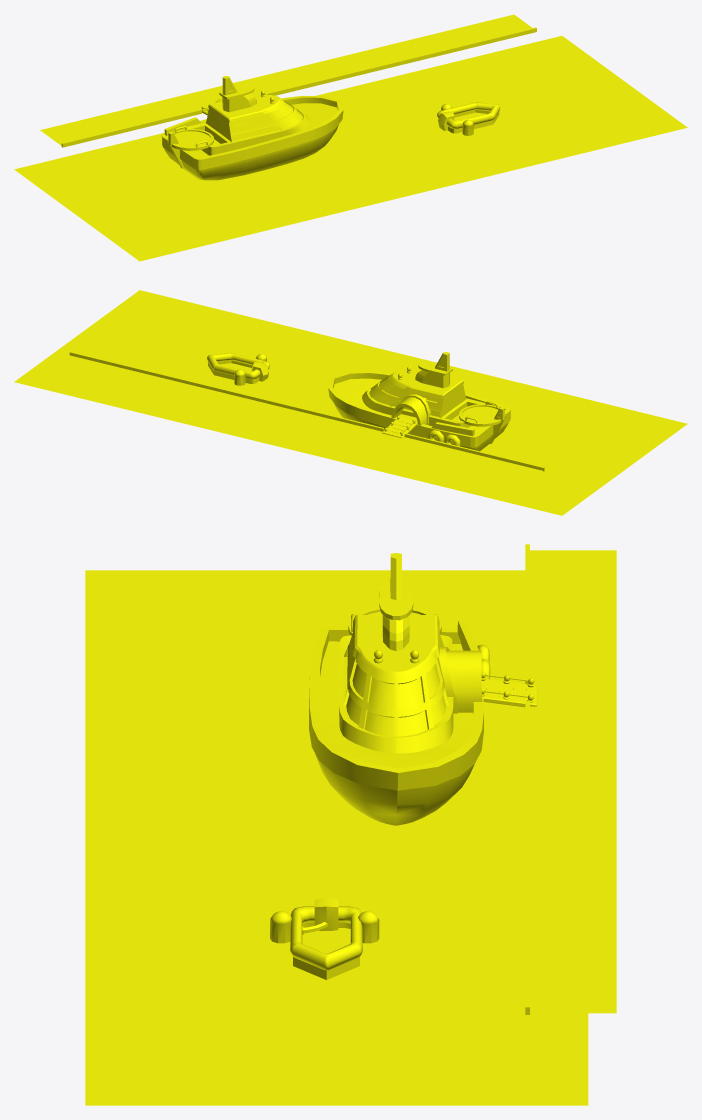
The picture shows the model from 3 angles, top to bottom: view 1: azimuth 30°, elevation 25°; view 2: azimuth 150°, elevation 25°; view 3: azimuth 270°, elevation 25°; orthographic projection. The views are drawn at different scales.
Parts seen in each view (by area): view 1: Water, cano1, box, cano2; view 2: Water, box, cano1, cano2, cano1.001; view 3: Water, box, cano1, cano2, cano1.001.
Part boxes in pixels (<box>): Water: <box>14,36,687,261</box>; cano1: <box>161,76,343,180</box>; box: <box>40,14,536,147</box>; cano2: <box>437,102,500,135</box>; Water: <box>14,290,687,515</box>; box: <box>48,351,544,486</box>; cano1: <box>328,352,510,451</box>; cano2: <box>207,353,270,385</box>; cano1.001: <box>382,416,417,438</box>; Water: <box>85,570,588,1105</box>; box: <box>525,544,616,1014</box>; cano1: <box>309,553,490,825</box>; cano2: <box>270,897,379,979</box>; cano1.001: <box>481,672,537,707</box>.
Bounding box in the file's own units: 48.05 × 8.46 × 20.15.
Materials: 1 (1 with a texture image).
